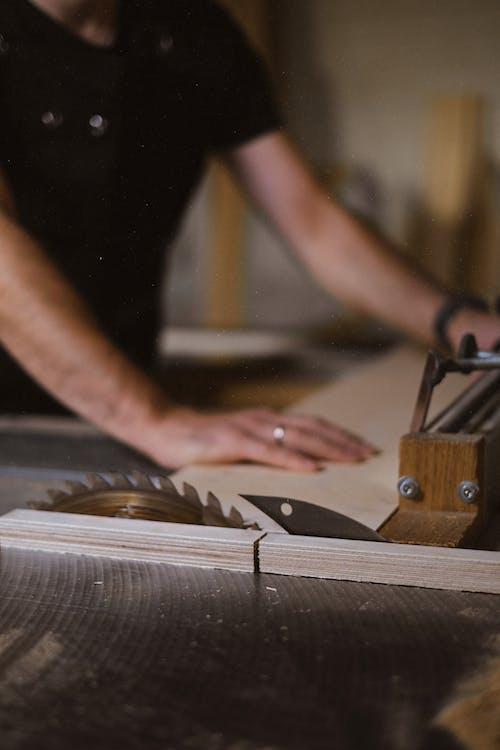knife: (233, 489, 389, 543)
